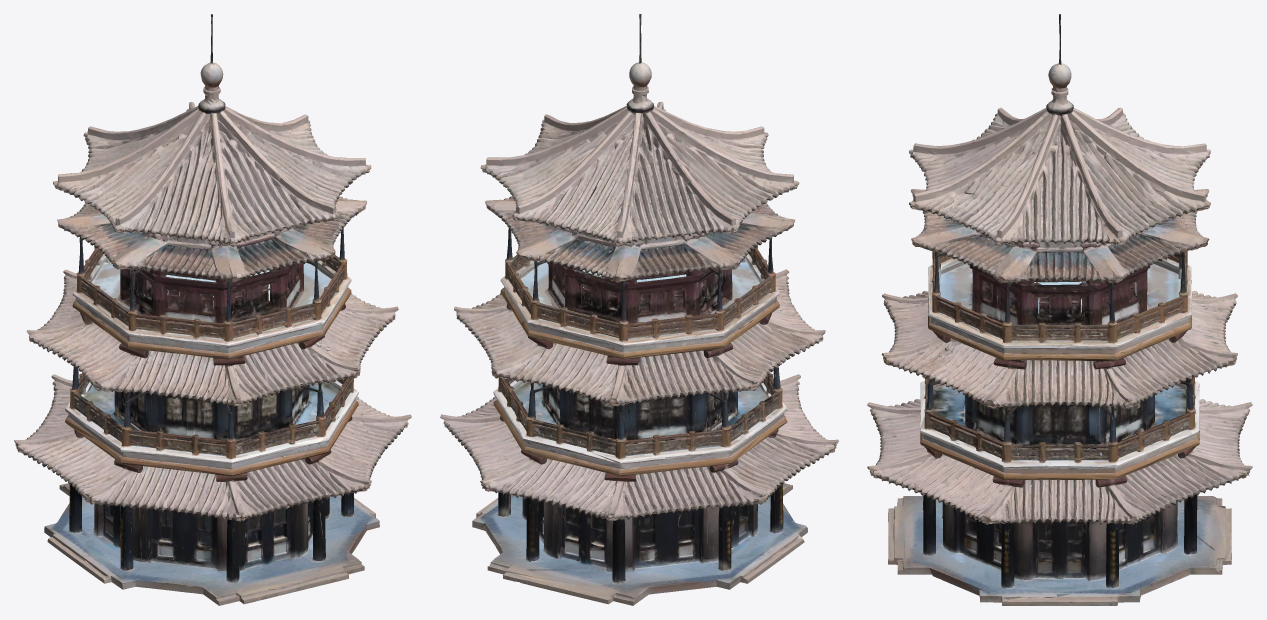
The model's file is lib_pagoda5.hd.glb.
The picture shows the model from 3 angles, left to right: view 1: azimuth 30°, elevation 25°; view 2: azimuth 150°, elevation 25°; view 3: azimuth 270°, elevation 25°; orthographic projection.
Visible parts, largest first — view 1: output_unwrapped; view 2: output_unwrapped; view 3: output_unwrapped.
Part boxes in pixels (left/top/right/bottom): output_unwrapped: left=14, top=14, right=411, bottom=605; output_unwrapped: left=440, top=14, right=838, bottom=605; output_unwrapped: left=867, top=14, right=1252, bottom=605.
Bounding box in the file's own units: 1.32 × 2 × 1.33.
Materials: 1 (1 with a texture image).
